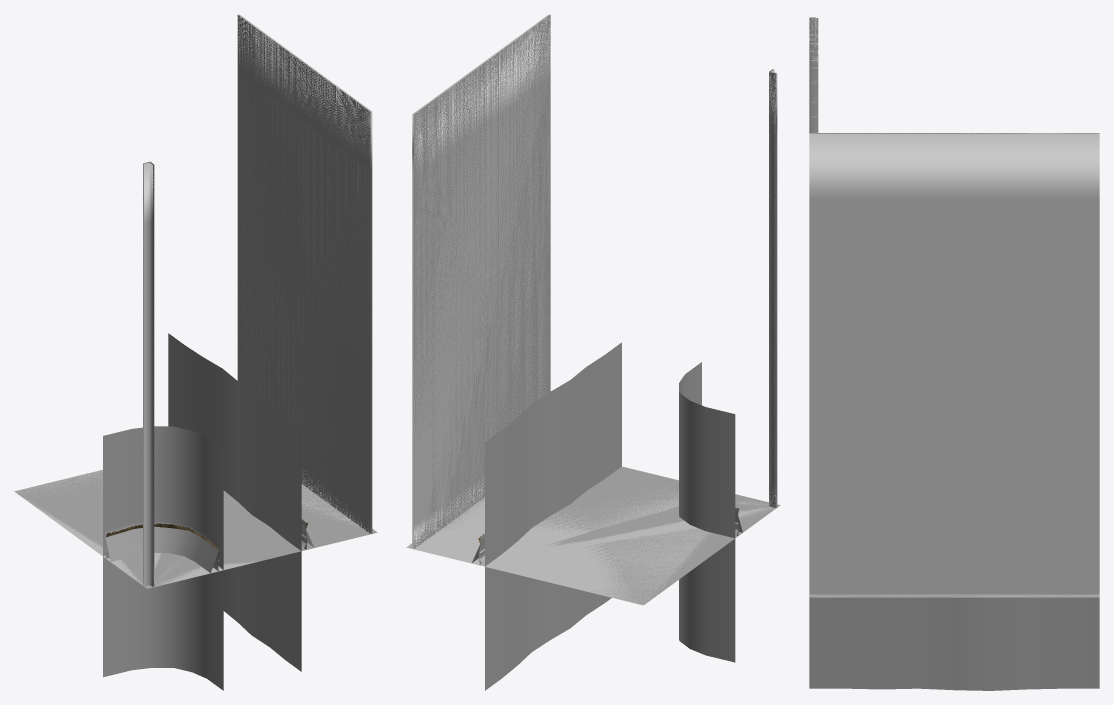
File: roomgateB1.fbx
3 views of the same model, side by side, from view 1: azimuth 30°, elevation 25°; view 2: azimuth 150°, elevation 25°; view 3: azimuth 270°, elevation 25° (orthographic). The views are drawn at different scales.
Visible parts, largest first — view 1: col_o, col_w, mdl_LOD0, mdl2_LOD0; view 2: col_o, mdl_LOD0, col_w, mdl2_LOD0; view 3: mdl_LOD0, col_w, mdl2_LOD0, col_o.
Part boxes in pixels (<box>): col_o: <box>14,15,377,588</box>; col_w: <box>103,333,301,690</box>; mdl_LOD0: <box>15,75,375,588</box>; mdl2_LOD0: <box>106,14,372,549</box>; col_o: <box>406,14,780,605</box>; mdl_LOD0: <box>407,77,778,604</box>; col_w: <box>485,342,735,690</box>; mdl2_LOD0: <box>412,14,777,543</box>; mdl_LOD0: <box>809,84,1099,597</box>; col_w: <box>809,597,1099,690</box>; mdl2_LOD0: <box>809,17,1099,199</box>; col_o: <box>809,18,1099,597</box>.
Size of what is drawn, in the model's own units: 1600 by 3600 by 1600.
